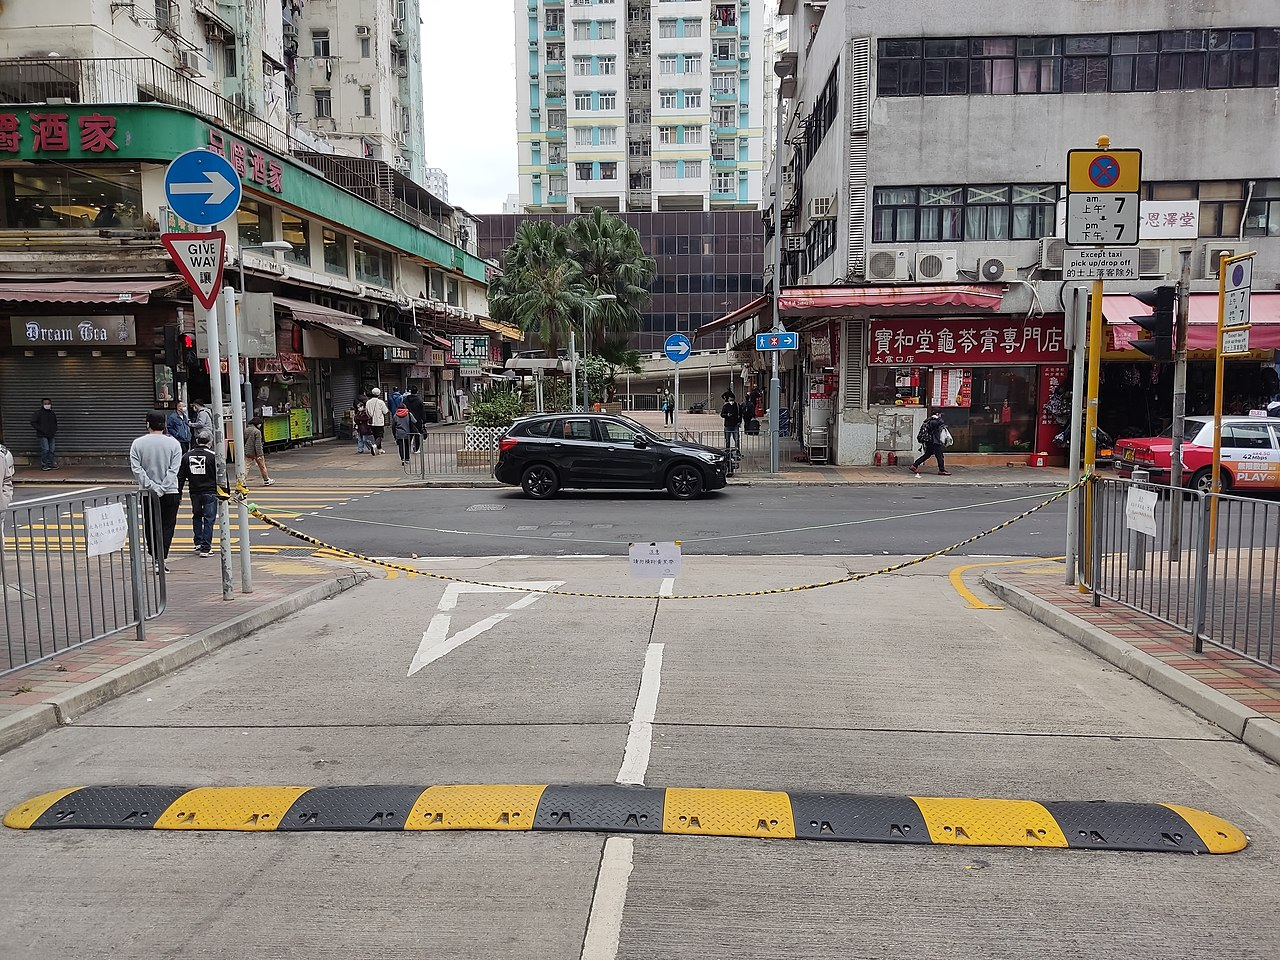Give Way: (167, 232, 237, 312)
Start Of No Stopping: (1060, 147, 1144, 252), (1210, 257, 1254, 332)
Turn Right: (162, 147, 242, 222), (659, 328, 697, 365)
